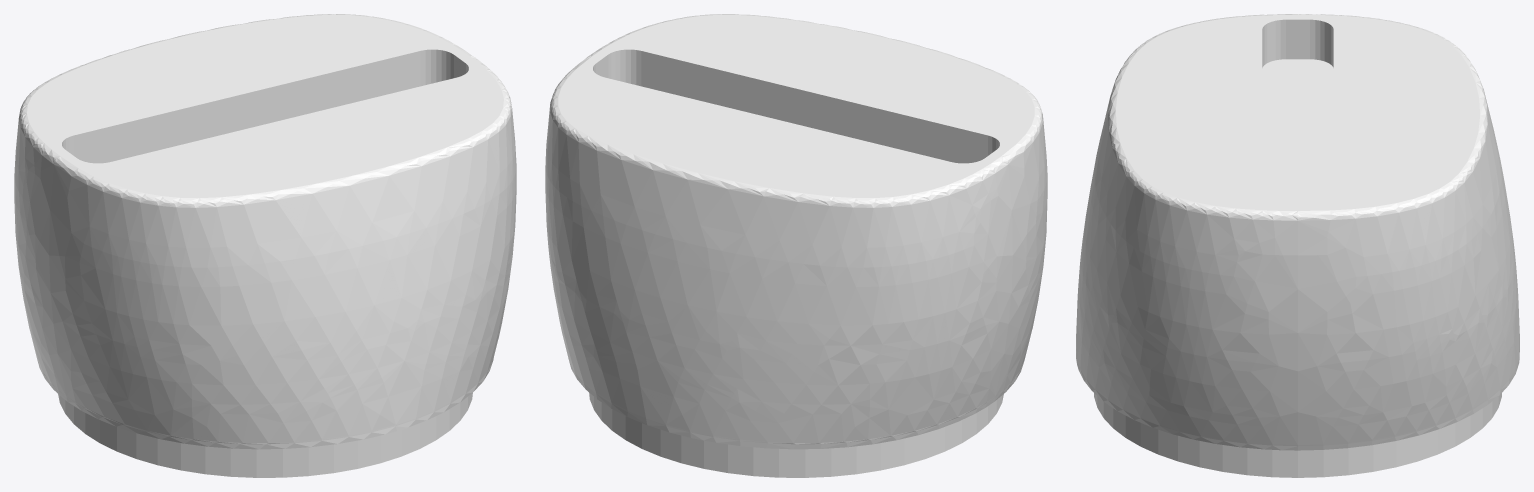
The model's file is hand.dae.
3 views of the same model, side by side, from view 1: azimuth 30°, elevation 25°; view 2: azimuth 150°, elevation 25°; view 3: azimuth 270°, elevation 25° (orthographic).
Parts seen in each view (by area): view 1: tmp_export_hand; view 2: tmp_export_hand; view 3: tmp_export_hand.
Part boxes in pixels (x1,y1,x2,y2): tmp_export_hand: [14, 14, 516, 477]; tmp_export_hand: [545, 14, 1047, 477]; tmp_export_hand: [1076, 14, 1519, 477].
Bounding box in the file's own units: 0.0618 × 0.0558 × 0.0387.
Materials: 1 (1 with a texture image).
